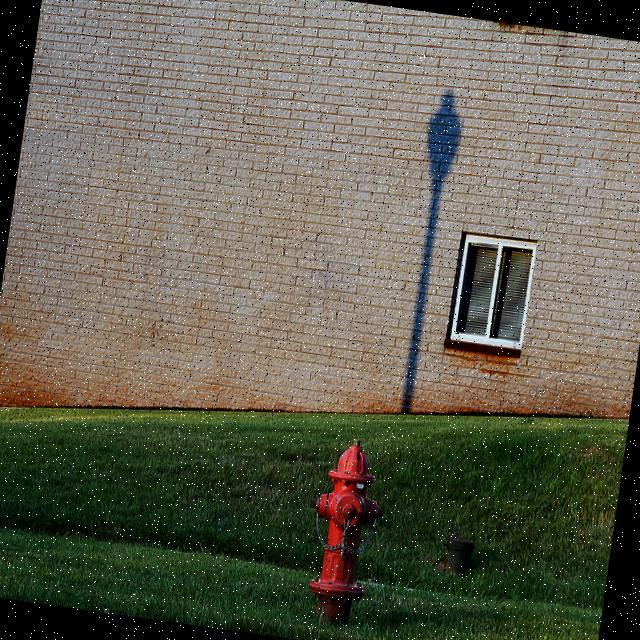fire_hydrant: (295, 429, 395, 628)
